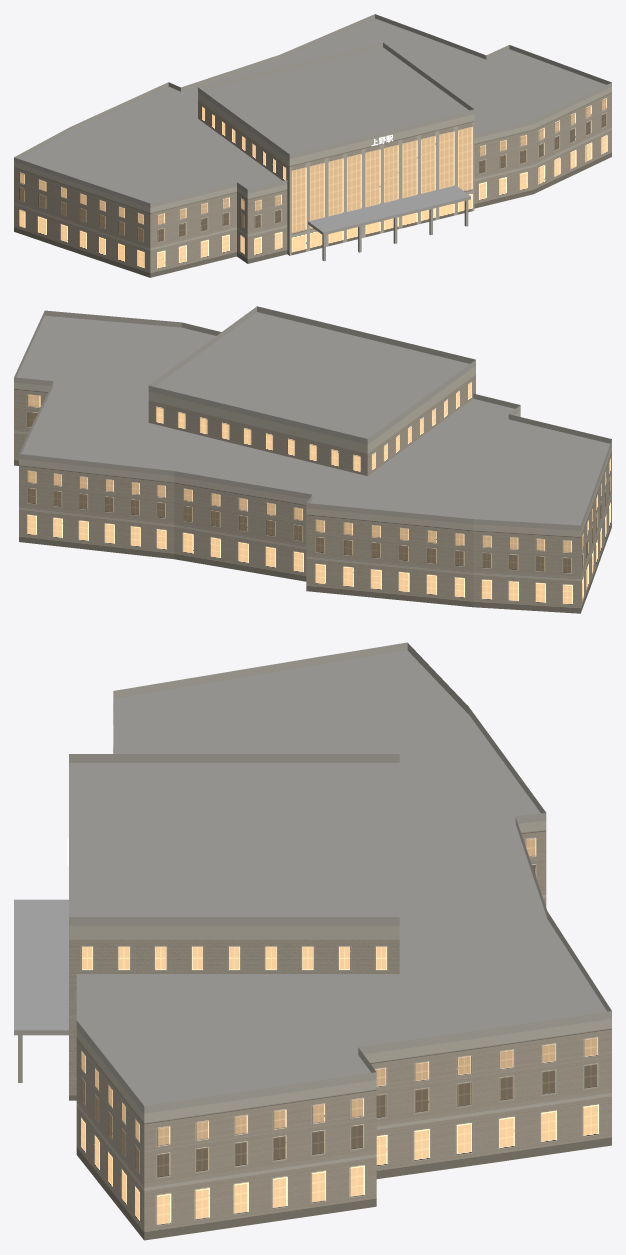
Rendered from ueno_station.glb.
The picture shows the model from 3 angles, top to bottom: view 1: azimuth 30°, elevation 25°; view 2: azimuth 150°, elevation 25°; view 3: azimuth 270°, elevation 25°; orthographic projection. The views are drawn at different scales.
Visible parts, largest first — view 1: UE_Station; view 2: UE_Station; view 3: UE_Station.
Boxes of the visible parts, <box> form: UE_Station: <box>14,14,611,277</box>; UE_Station: <box>14,306,611,613</box>; UE_Station: <box>14,642,611,1240</box>.
Bounding box in the file's own units: 114 × 21 × 62.
Materials: 7 (3 with a texture image).
